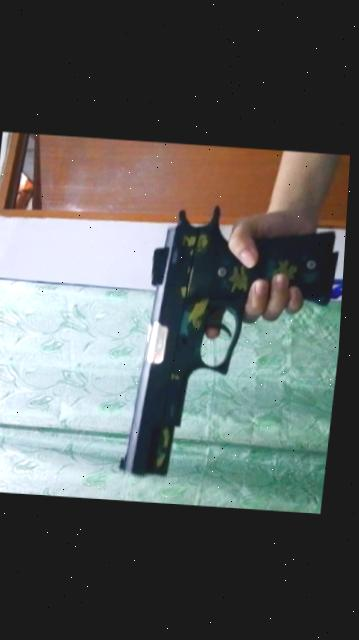pistol: (113, 199, 350, 494)
